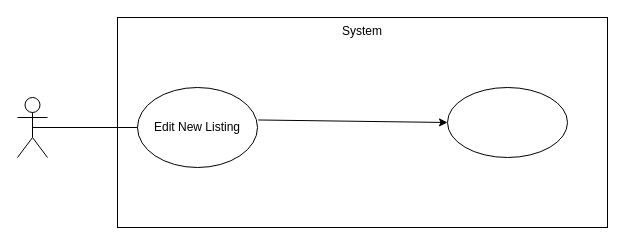
Some shapes in this 625 by 245 pixel diagram are drawn without their labels. The shapes that lost their labels are listed below. From the top down, each one's centre as x and y in pixels, then its label:
At [32,127]: "Seller".
At [507,122]: "Approved".
